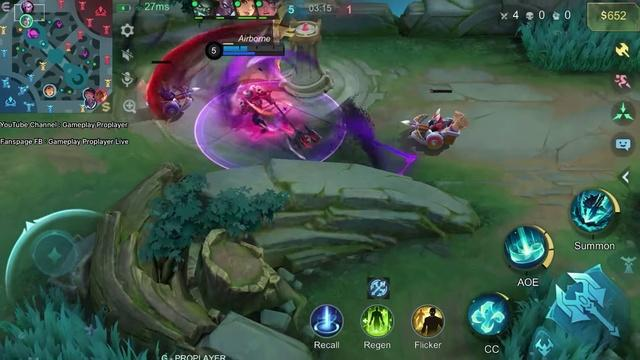Adc_Aliado: (86, 98, 97, 110)
Arbusto: (0, 288, 147, 359), (519, 0, 639, 72), (499, 281, 550, 359)
Esbirro_Aliado: (160, 86, 192, 121)
Esbirro_Enemigo: (401, 108, 468, 149)
Exp_Aliado: (20, 2, 35, 14)
HP_Aliado: (222, 45, 284, 52)
Hechizo_Batalla: (411, 305, 444, 337)
Jungla_Aliado: (43, 84, 57, 97)
Mana: (222, 53, 284, 56)
Mid_Aliado: (20, 15, 34, 28)
Minimapa: (0, 1, 113, 113)
Roamer_Aliado: (83, 88, 95, 101)
Roamer_Enemigo: (95, 88, 108, 103)
Skill1: (468, 292, 511, 336)
Skill2: (504, 225, 553, 270)
Skill3: (570, 189, 619, 233)
Terizla: (238, 84, 320, 158)
Torre_Enemiga: (273, 19, 331, 98)
Tortuga_mapa: (26, 28, 39, 39)
